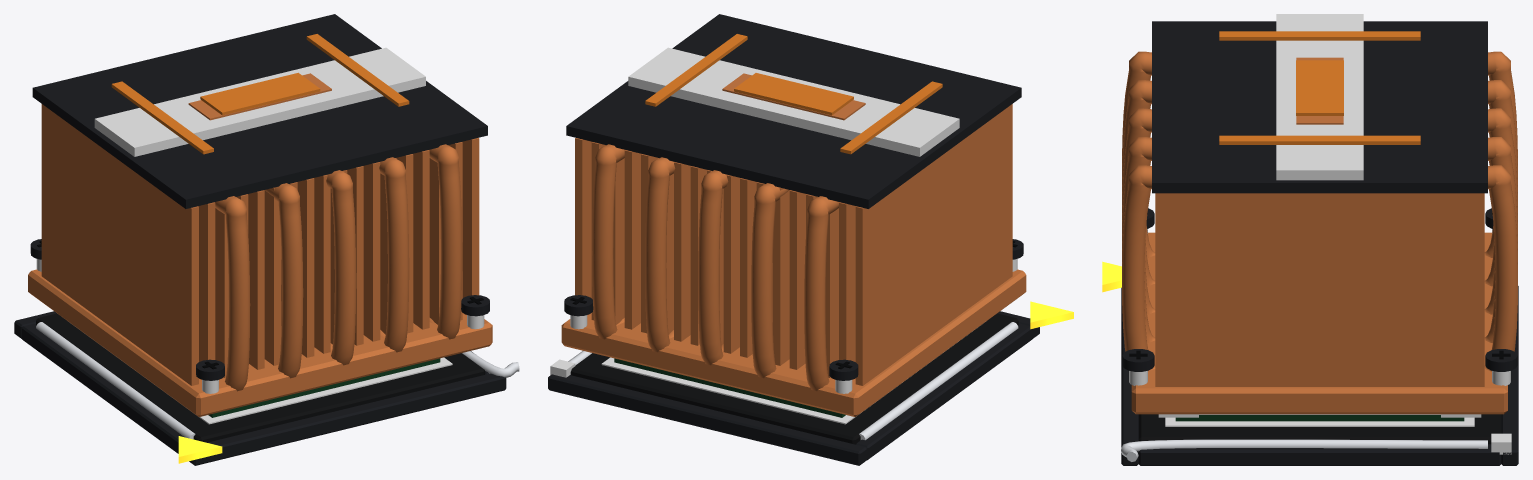
Rendered from hwm_cpu_epyc_64c.glb.
3 views of the same model, side by side, from view 1: azimuth 30°, elevation 25°; view 2: azimuth 150°, elevation 25°; view 3: azimuth 270°, elevation 25° (orthographic). The views are drawn at different scales.
Visible parts, largest first — view 1: Cooler, Socket, CPU, Screw_3, Screw_1, Lever; view 2: Cooler, Socket, CPU, Screw_0, Screw_2; view 3: Cooler, Socket, Lever, CPU, Screw_2, Screw_3, Frame.
Boxes of the visible parts, left/top/right/bottom form: Cooler: left=28, top=14, right=492, bottom=416; Socket: left=14, top=311, right=506, bottom=465; CPU: left=208, top=358, right=440, bottom=417; Screw_3: left=461, top=295, right=489, bottom=329; Screw_1: left=196, top=359, right=224, bottom=393; Lever: left=462, top=351, right=519, bottom=377; Cooler: left=561, top=14, right=1026, bottom=416; Socket: left=548, top=301, right=1073, bottom=465; CPU: left=614, top=358, right=845, bottom=417; Screw_0: left=829, top=359, right=858, bottom=393; Screw_2: left=564, top=295, right=593, bottom=329; Cooler: left=1122, top=14, right=1517, bottom=414; Socket: left=1102, top=261, right=1518, bottom=465; Lever: left=1121, top=439, right=1487, bottom=461; CPU: left=1175, top=415, right=1464, bottom=421; Screw_2: left=1485, top=349, right=1517, bottom=385; Screw_3: left=1122, top=349, right=1154, bottom=385; Frame: left=1158, top=414, right=1481, bottom=417.
Bounding box in the file's own units: 0.1338 × 0.0974 × 0.1239.
